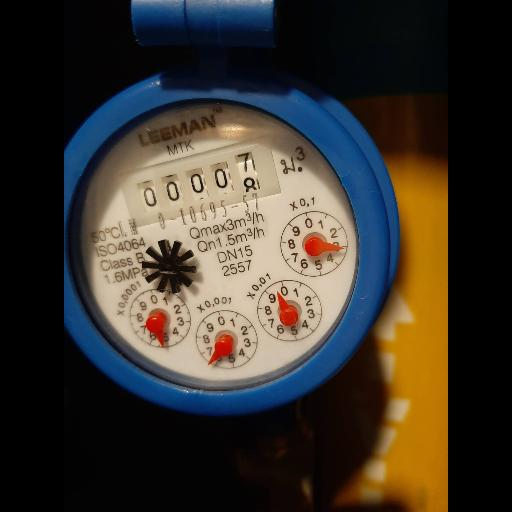0: (210, 161, 234, 196), (161, 173, 185, 207), (185, 167, 209, 201), (138, 179, 161, 213)
7: (234, 151, 261, 193)
border_water_meter_number: (119, 136, 283, 233)
